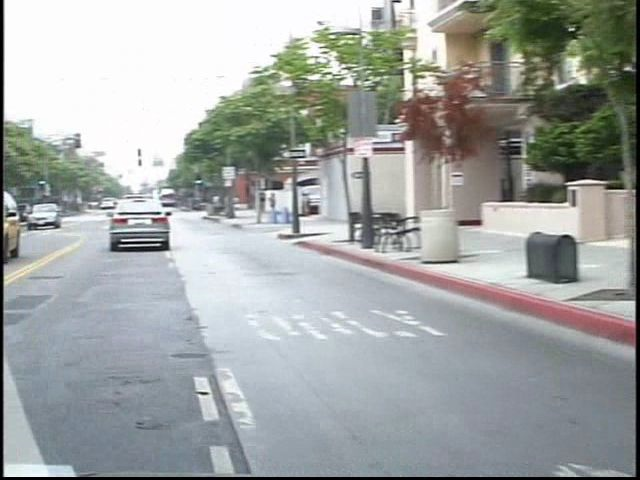person: (253, 187, 268, 221)
